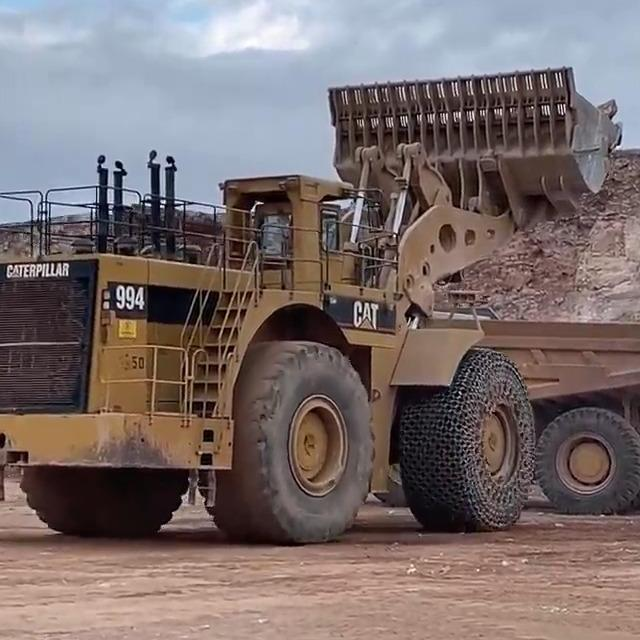dump truck: (411, 314, 640, 508)
wheel loader: (0, 52, 637, 543)
